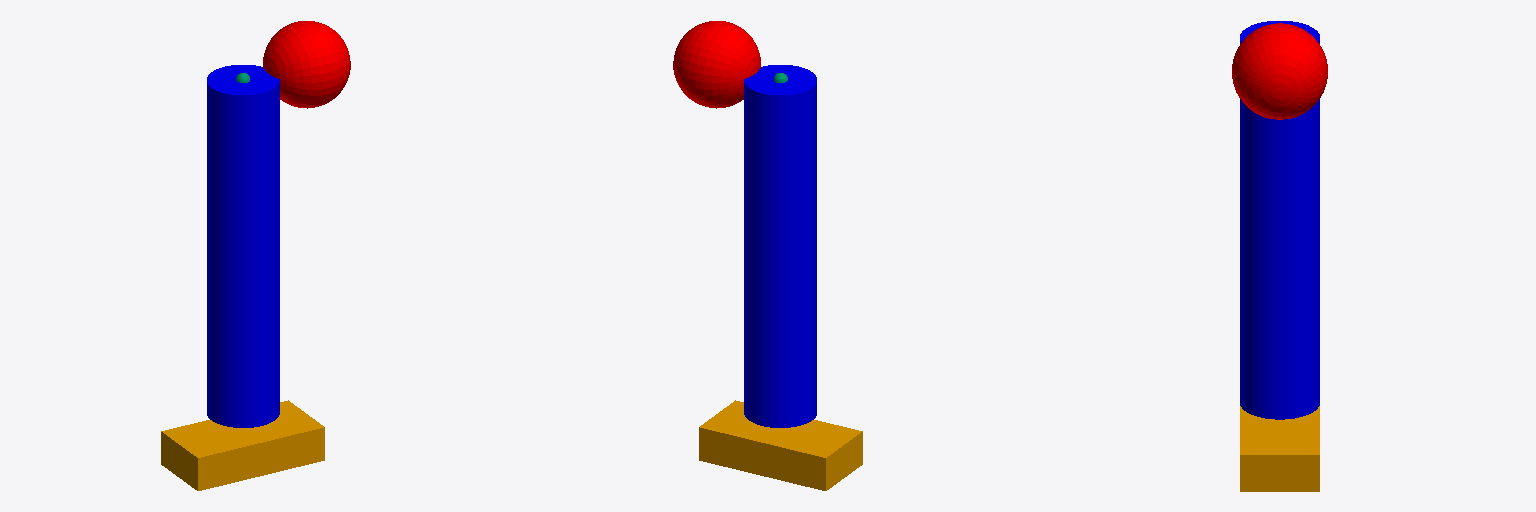
The robot description file, URDF, robot "prims":
<?xml version="1.0"?>
<robot name="prims">
  <material name="blue"><color rgba="0 0 1 1"/></material>
  <link name="base">
    <inertial><mass value="1.0"/><inertia ixx="0.01" ixy="0" ixz="0" iyy="0.01" iyz="0" izz="0.01"/></inertial>
    <visual><geometry><box size="0.2 0.1 0.05"/></geometry></visual>
    <collision><geometry><box size="0.2 0.1 0.05"/></geometry></collision>
  </link>
  <link name="l1">
    <inertial><mass value="1.0"/><inertia ixx="0.01" ixy="0" ixz="0" iyy="0.01" iyz="0" izz="0.01"/></inertial>
    <visual>
      <origin xyz="0 0 0.25" rpy="0 0 0"/>
      <geometry><cylinder radius="0.05" length="0.5"/></geometry>
      <material name="blue"/>
    </visual>
  </link>
  <link name="l2">
    <inertial><mass value="1.0"/><inertia ixx="0.01" ixy="0" ixz="0" iyy="0.01" iyz="0" izz="0.01"/></inertial>
    <visual>
      <origin xyz="0.1 0 0" rpy="0 1.5707963 0"/>
      <geometry><sphere radius="0.06"/></geometry>
      <material name="inline"><color rgba="1 0 0 0.5"/></material>
    </visual>
    <visual><geometry><sphere radius="0.01"/></geometry></visual>
  </link>
  <joint name="j1" type="revolute">
    <parent link="base"/><child link="l1"/><origin xyz="0 0 0.05"/><axis xyz="0 0 1"/>
    <limit lower="-3" upper="3" effort="5" velocity="1"/>
  </joint>
  <joint name="j2" type="revolute">
    <parent link="l1"/><child link="l2"/><origin xyz="0 0 0.5"/><axis xyz="0 1 0"/>
    <limit lower="-3" upper="3" effort="5" velocity="1"/>
  </joint>
</robot>

--- What the picture shows (computed from the rendered views, not written in the file) ---
3 views of the same robot in one strip: view 1: azimuth 30°, elevation 25°; view 2: azimuth 150°, elevation 25°; view 3: azimuth 270°, elevation 25° (orthographic).
Robot: prims — 3 links, 2 joints (2 revolute); root link base; default pose: all joints at 0.
Links seen in each view (by area): view 1: l1, base, l2; view 2: l1, base, l2; view 3: l1, l2, base.
Link boxes in pixels (<box>): l1: <box>207,65,279,427</box>; base: <box>161,400,324,490</box>; l2: <box>236,21,350,108</box>; l1: <box>744,65,816,427</box>; base: <box>699,400,862,490</box>; l2: <box>673,21,787,108</box>; l1: <box>1240,21,1319,419</box>; l2: <box>1232,23,1327,119</box>; base: <box>1240,406,1319,491</box>.
Size in the robot's own frame: 0.26 by 0.12 by 0.635 metres.
Geometry: primitives only (box / cylinder / sphere), no mesh files.
